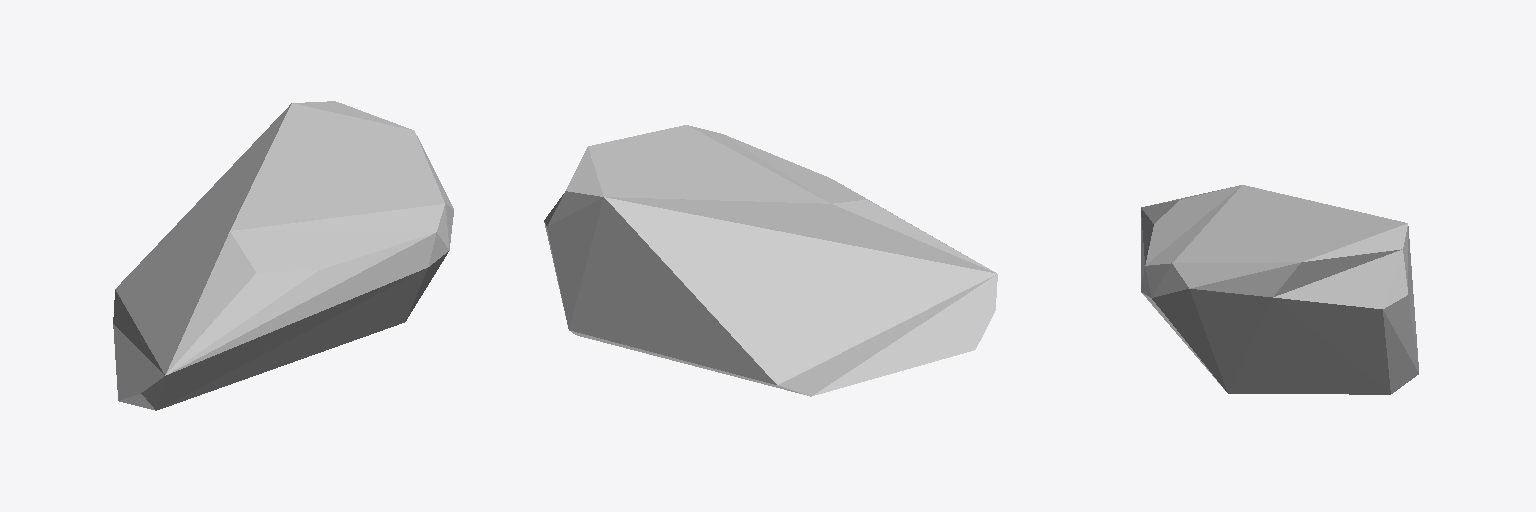
Rendered from Stone_4.obj.
3 views of the same model, side by side, from view 1: azimuth 30°, elevation 25°; view 2: azimuth 150°, elevation 25°; view 3: azimuth 270°, elevation 25° (orthographic).
Parts seen in each view (by area): view 1: Stone_4; view 2: Stone_4; view 3: Stone_4.
Boxes of the visible parts, box(x1,y1,x2,y2) form: Stone_4: box(113, 101, 453, 410); Stone_4: box(544, 125, 997, 396); Stone_4: box(1141, 185, 1418, 394).
Bounding box in the file's own units: 1.03 × 0.4653 × 0.7211.